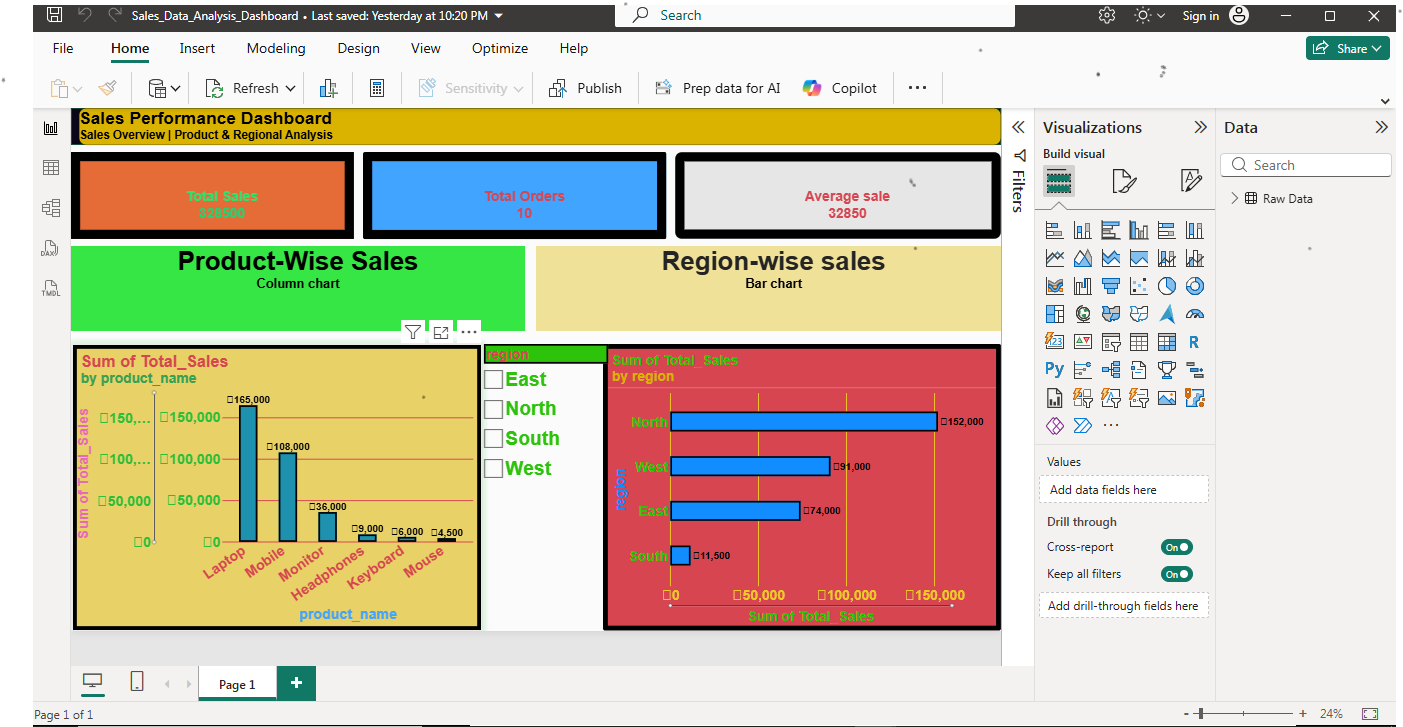

The page's visual inventory and layout, read from the dashboard file:
{"tool":"powerbi","page":{"name":"Page 1","canvas":[3840,2160],"ordinal":0},"visuals":[{"type":"cardVisual","fields":{"Data":["Sum(Raw Data.Total_Sales)"]},"box":[0,181.7,1168.5,359.2],"z":0},{"type":"shape","box":[0,0,3840,152.8],"z":1},{"type":"textbox","box":[33.1,0,3806.9,153.1],"z":2},{"type":"cardVisual","fields":{"Data":["Count(Raw Data.sale_id)"]},"box":[1204.1,182.1,1253.8,360],"z":3},{"type":"cardVisual","fields":{"Data":["Avg(Raw Data.Total_Sales)"]},"box":[2493.9,181.7,1346.1,359.2],"z":4},{"type":"textbox","box":[0,569.8,1874.6,351],"z":5},{"type":"textbox","box":[950,620,302,459],"z":6},{"type":"textbox","box":[1920,569.8,1920,351],"z":7},{"type":"clusteredColumnChart","fields":{"Category":["Raw Data.product_name"],"Y":["Sum(Raw Data.Total_Sales)"]},"box":[4.1,974.5,1692.9,1185],"z":8},{"type":"clusteredBarChart","fields":{"Category":["Raw Data.region"],"Y":["Sum(Raw Data.Total_Sales)"]},"box":[2197.2,972.4,1642.8,1183.4],"z":9},{"type":"slicer","fields":{"Values":["Raw Data.region"]},"box":[1697,974.5,528.5,1052.9],"z":10}]}

Visuals, with their boxes on the page's 3840x2160 design canvas (x1, y1, x2, y2). These are canvas units, not pixel positions in the 1403x727 screenshot, which may show the page scaled, cropped or inside an application window:
cardVisual - Sum(Raw Data.Total_Sales): box=[0, 182, 1168, 541]
shape: box=[0, 0, 3840, 153]
textbox: box=[33, 0, 3840, 153]
cardVisual - Count(Raw Data.sale_id): box=[1204, 182, 2458, 542]
cardVisual - Avg(Raw Data.Total_Sales): box=[2494, 182, 3840, 541]
textbox: box=[0, 570, 1875, 921]
textbox: box=[950, 620, 1252, 1079]
textbox: box=[1920, 570, 3840, 921]
clusteredColumnChart - Raw Data.product_name x Sum(Raw Data.Total_Sales): box=[4, 974, 1697, 2160]
clusteredBarChart - Raw Data.region x Sum(Raw Data.Total_Sales): box=[2197, 972, 3840, 2156]
slicer - Raw Data.region: box=[1697, 974, 2226, 2027]
